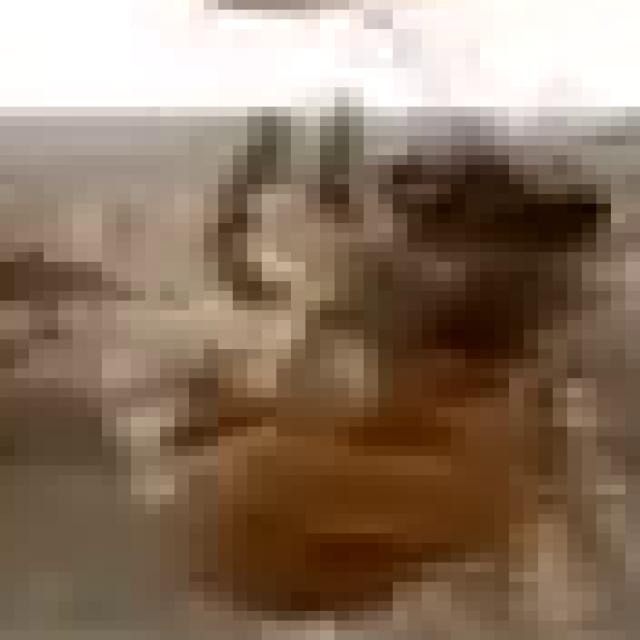honeybee: (174, 87, 596, 640)
